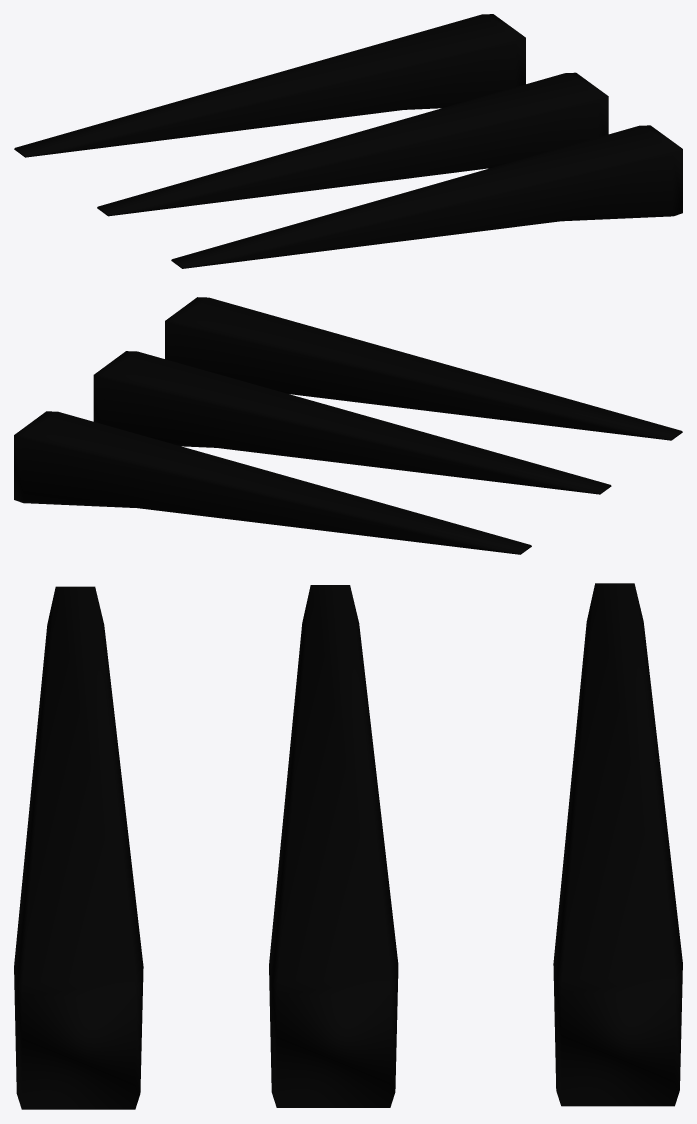
File: G_ClawRight.fbx
The picture shows the model from 3 angles, top to bottom: view 1: azimuth 30°, elevation 25°; view 2: azimuth 150°, elevation 25°; view 3: azimuth 270°, elevation 25°; orthographic projection. The views are drawn at different scales.
Visible parts, largest first — view 1: ClawLeft.001; view 2: ClawLeft.001; view 3: ClawLeft.001.
Part boxes in pixels (x1=…): ClawLeft.001: x1=14, y1=14, x2=682, y2=268; ClawLeft.001: x1=14, y1=297, x2=682, y2=554; ClawLeft.001: x1=14, y1=583, x2=682, y2=1109.
Size of the model in its own units: 20.02 by 2.62 by 13.33.
